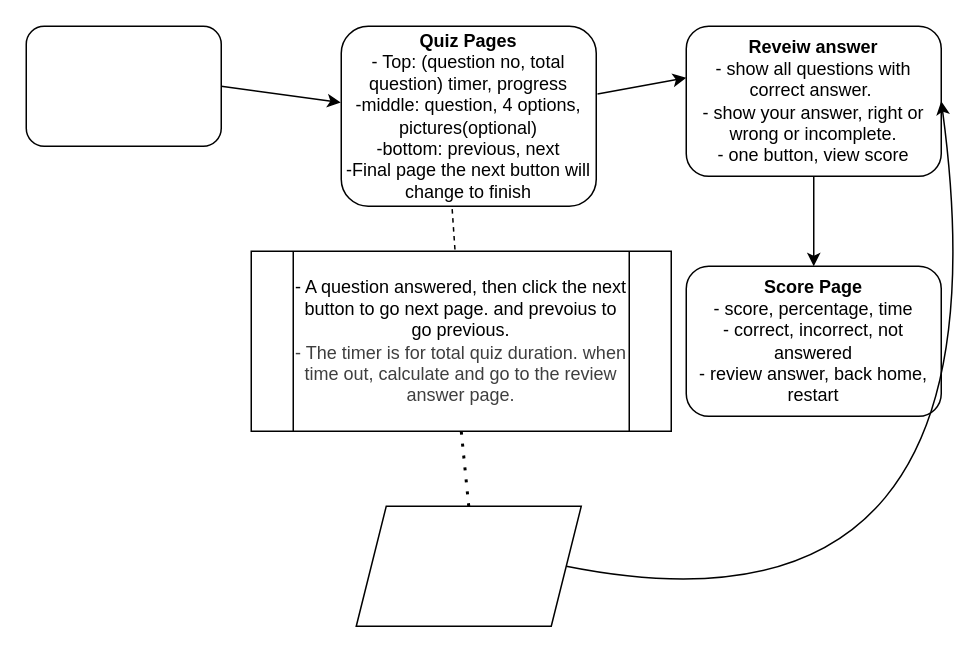
Some shapes in this 980 by 653 pixel diagram are drawn without their labels. Here are the shapes that lost their labels. From the top down, the centre of each, then its label:
the point at 123,85: Start Page - Greetings - Start quiy button
the point at 468,565: Time out or Finish button pressed
